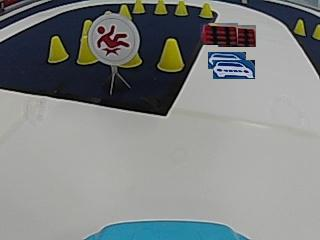cone: (157, 37, 184, 73), (47, 35, 68, 63), (76, 40, 96, 65), (199, 2, 213, 18), (293, 18, 305, 36), (175, 0, 188, 16), (154, 0, 167, 15), (132, 0, 145, 14), (119, 4, 130, 20), (312, 23, 319, 40)
tumble: (97, 23, 128, 59)
